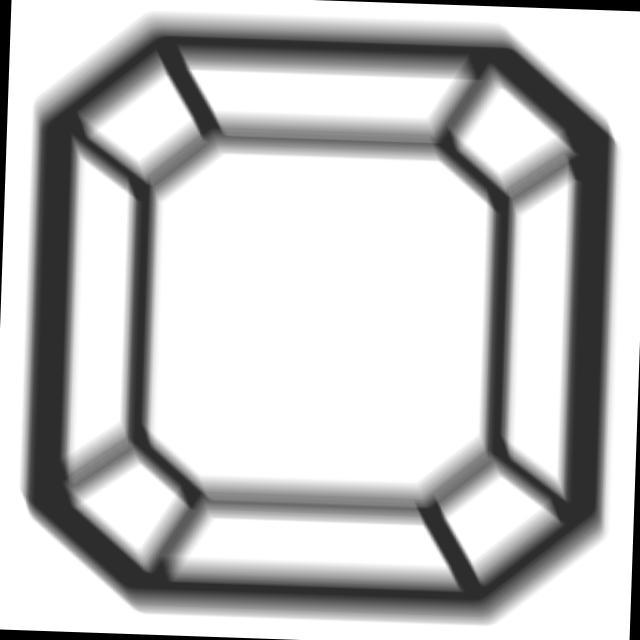emerald: (8, 9, 631, 638)
